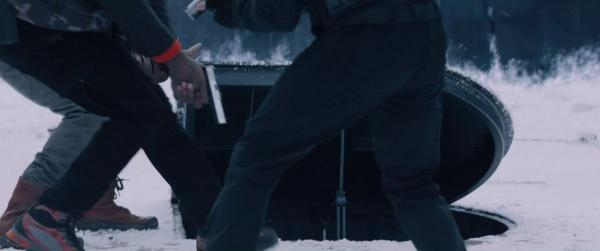Gun: (202, 67, 229, 127)
